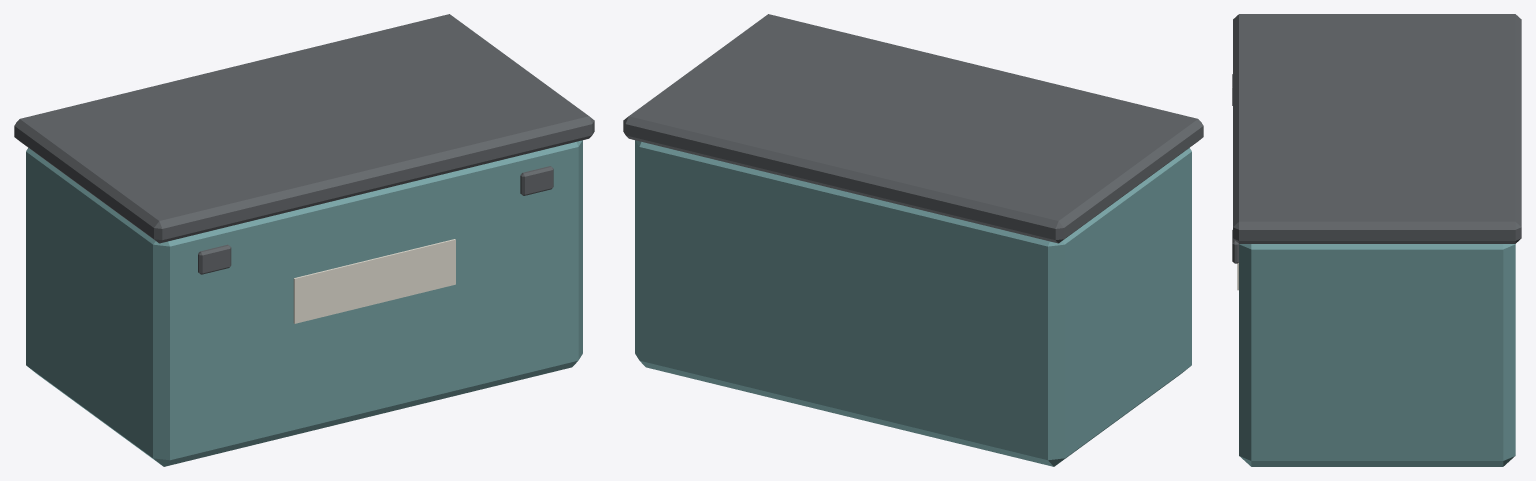
The model's file is footlocker.glb.
The picture shows the model from 3 angles, left to right: view 1: azimuth 30°, elevation 25°; view 2: azimuth 150°, elevation 25°; view 3: azimuth 270°, elevation 25°; orthographic projection.
Parts seen in each view (by area): view 1: footlocker; view 2: footlocker; view 3: footlocker.
Part boxes in pixels (bbox=[...]): footlocker: bbox=[14, 14, 594, 466]; footlocker: bbox=[623, 14, 1203, 466]; footlocker: bbox=[1232, 14, 1521, 466].
Bounding box in the file's own units: 0.82 × 0.45 × 0.471.
